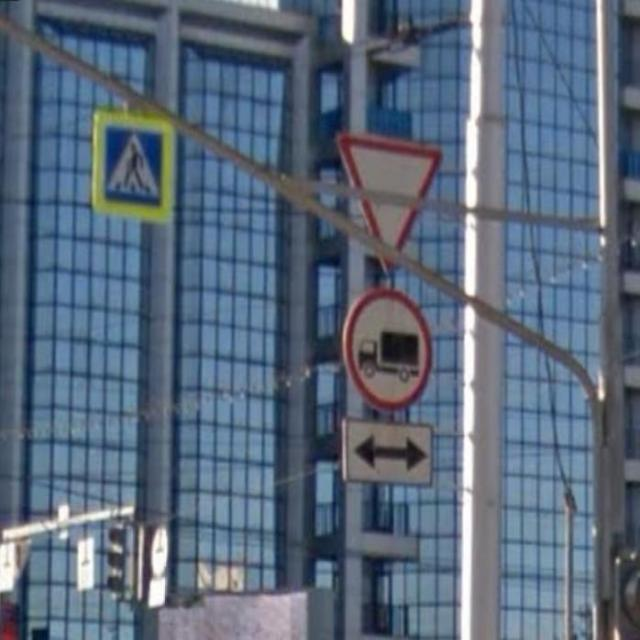Przejscie dla pieszych: (91, 103, 176, 223)
Ustap pierwszenstwa: (331, 128, 445, 277)
